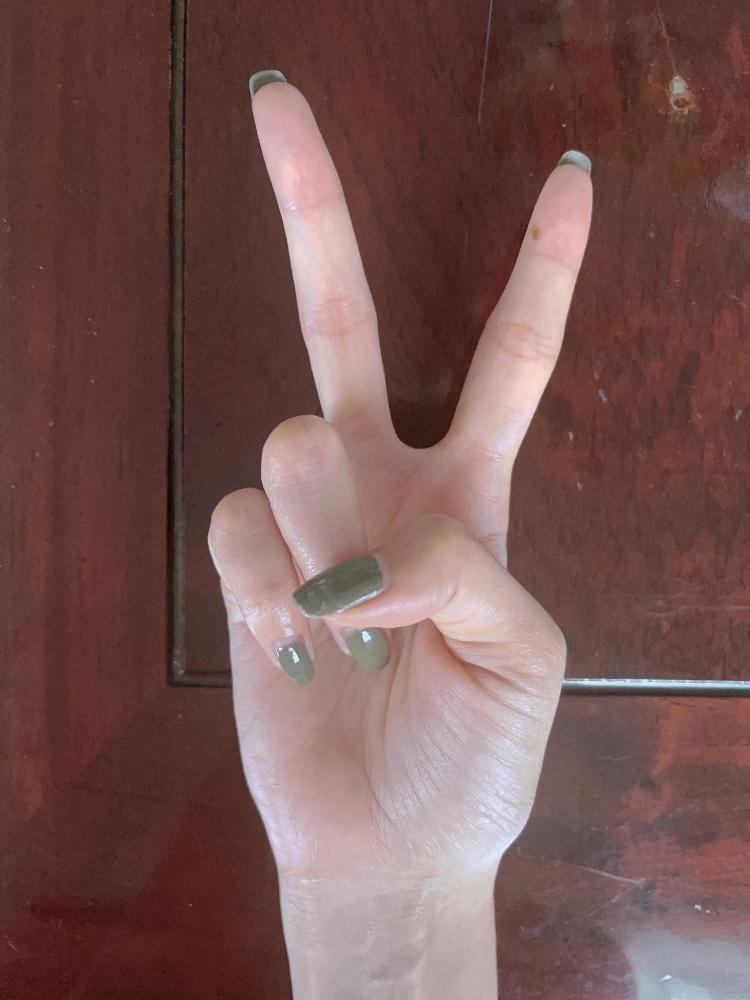v: (203, 69, 599, 861)
